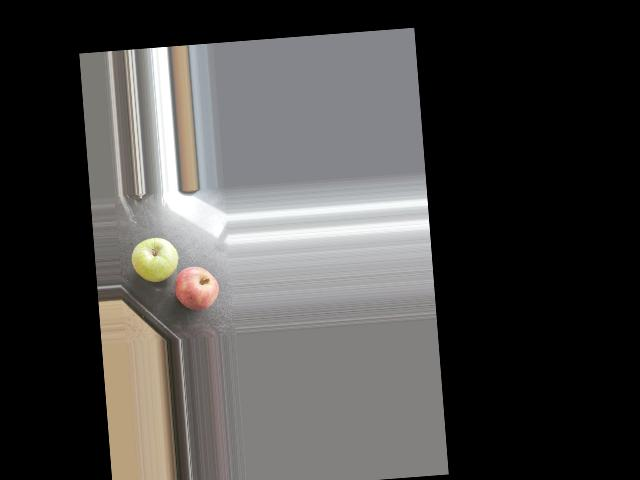apple: (175, 263, 222, 313)
